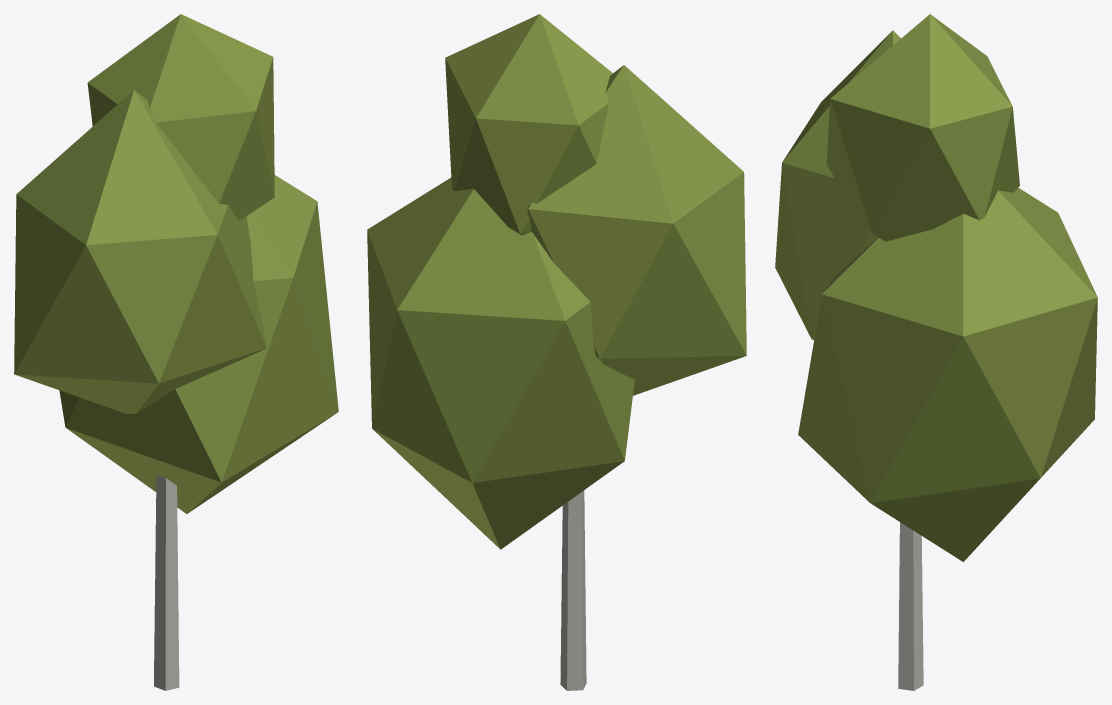
Rendered from tree_birch.glb.
3 views of the same model, side by side, from view 1: azimuth 30°, elevation 25°; view 2: azimuth 150°, elevation 25°; view 3: azimuth 270°, elevation 25° (orthographic). The views are drawn at different scales.
Visible parts, largest first — view 1: birch_crown, birch_trunk; view 2: birch_crown, birch_trunk; view 3: birch_crown, birch_trunk.
Boxes of the visible parts, left/top/right/bottom form: birch_crown: left=14, top=14, right=338, bottom=513; birch_trunk: left=154, top=475, right=179, bottom=690; birch_crown: left=367, top=14, right=746, bottom=549; birch_trunk: left=560, top=490, right=586, bottom=690; birch_crown: left=775, top=14, right=1097, bottom=561; birch_trunk: left=898, top=522, right=923, bottom=690.
Bounding box in the file's own units: 4.04 × 7.53 × 3.22.
